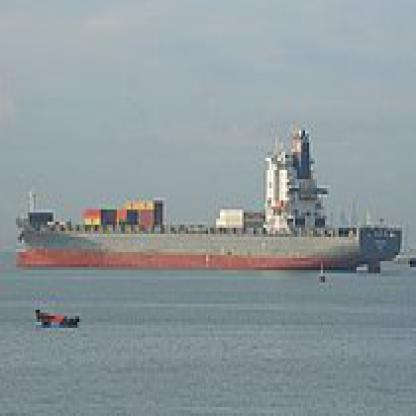Container Ship: (13, 123, 403, 271)
